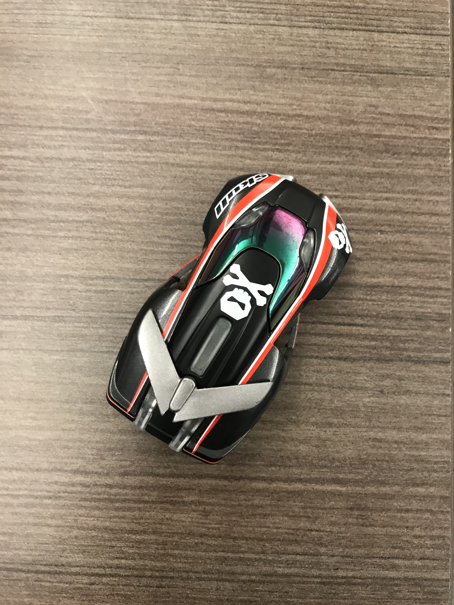Skull: (104, 172, 356, 464)
